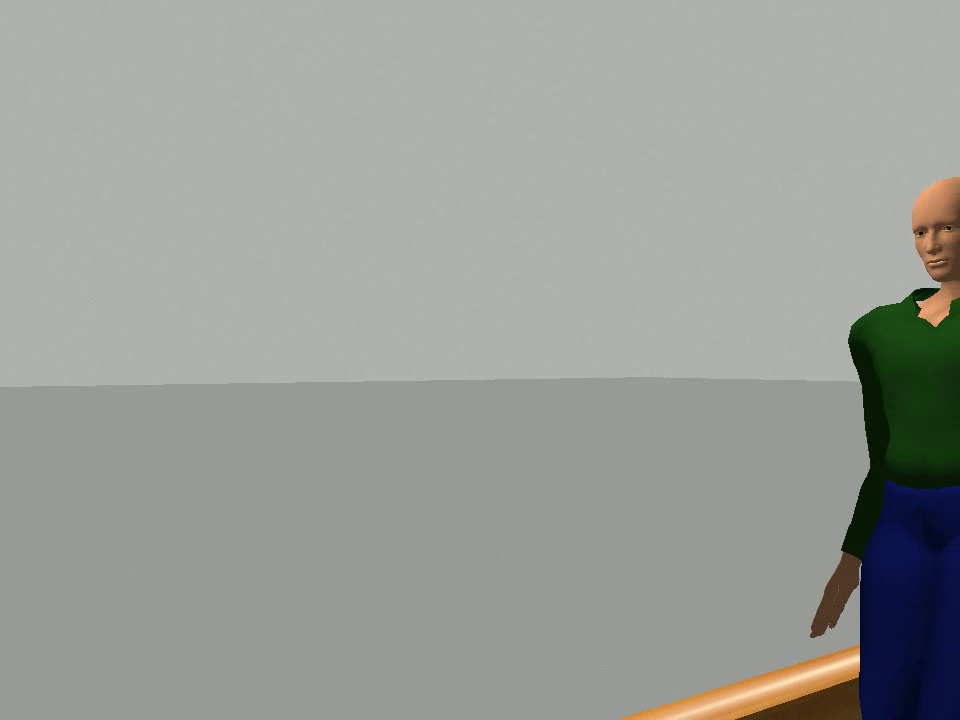person: (806, 168, 960, 720)
